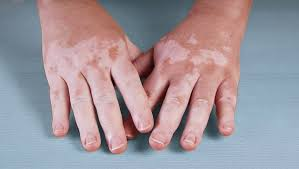vitiligo: (24, 17, 250, 152)
